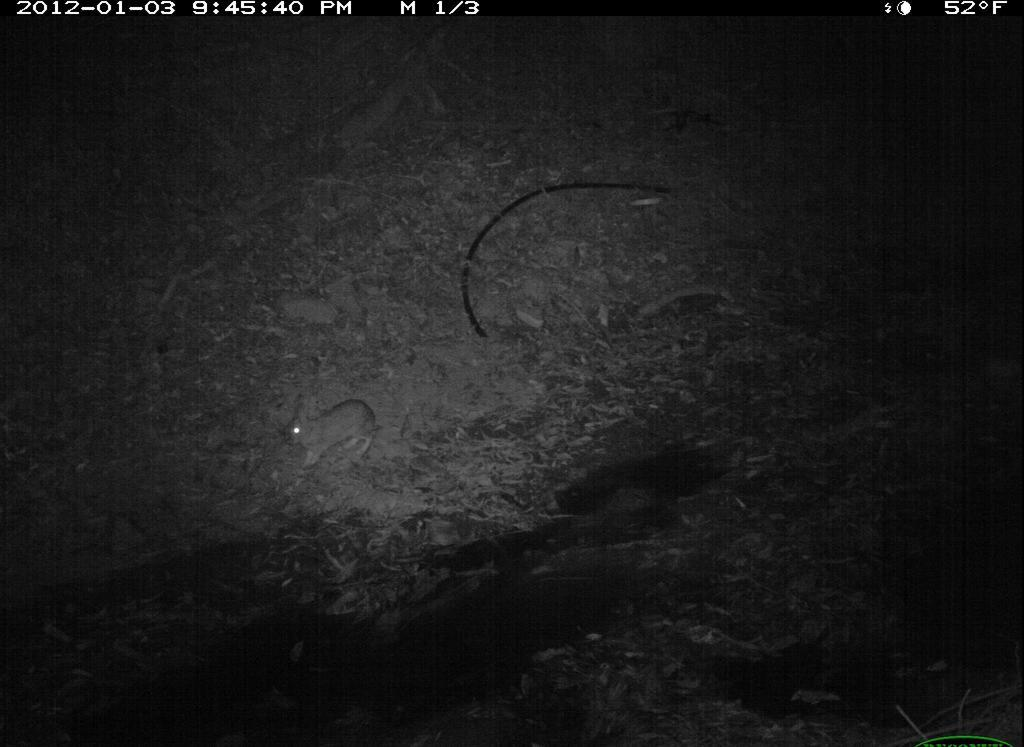rabbit: (272, 388, 388, 478)
